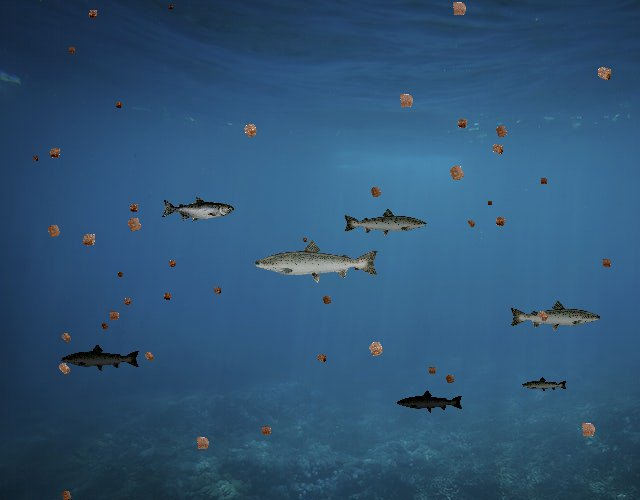Fish: (252, 238, 381, 284), (508, 300, 602, 333), (342, 207, 428, 238), (61, 343, 142, 372), (161, 196, 234, 223), (397, 389, 465, 414), (521, 377, 568, 393)
Pellet: (236, 116, 264, 144), (52, 356, 77, 381), (29, 153, 41, 165)
